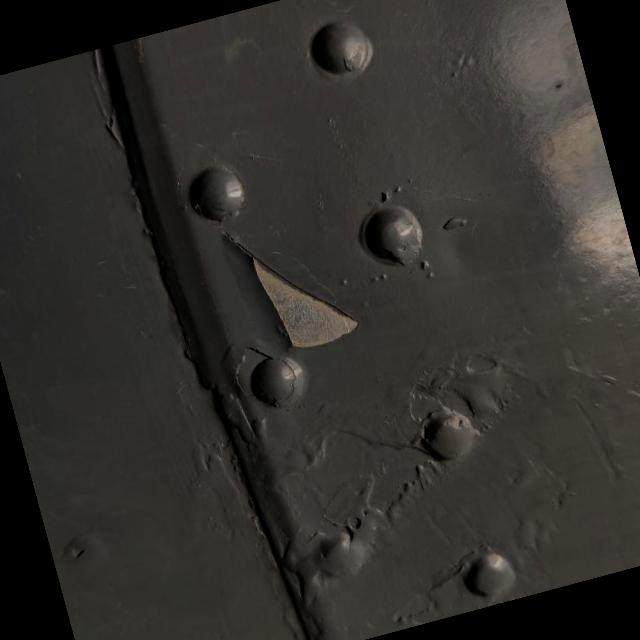paint-off: (193, 182, 392, 384)
